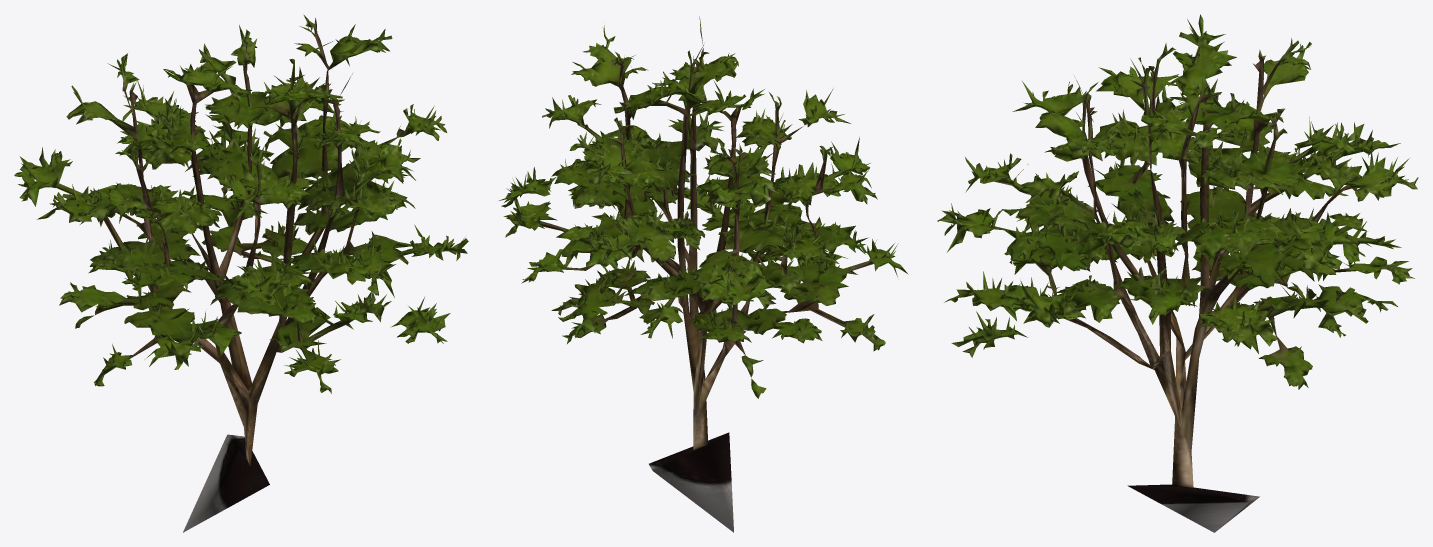
Rendered from tree_pot_lod1.glb.
3 views of the same model, side by side, from view 1: azimuth 30°, elevation 25°; view 2: azimuth 150°, elevation 25°; view 3: azimuth 270°, elevation 25° (orthographic). The views are drawn at different scales.
Parts seen in each view (by area): view 1: tripo_node_1b0d959a-7cf9-4ce7-a38e-07beb3e64792; view 2: tripo_node_1b0d959a-7cf9-4ce7-a38e-07beb3e64792; view 3: tripo_node_1b0d959a-7cf9-4ce7-a38e-07beb3e64792.
Part boxes in pixels (<box>): tripo_node_1b0d959a-7cf9-4ce7-a38e-07beb3e64792: <box>14,14,468,532</box>; tripo_node_1b0d959a-7cf9-4ce7-a38e-07beb3e64792: <box>499,16,908,532</box>; tripo_node_1b0d959a-7cf9-4ce7-a38e-07beb3e64792: <box>937,14,1418,532</box>.
Bounding box in the file's own units: 0.8621 × 1.09 × 0.919.
Materials: 1 (1 with a texture image).
